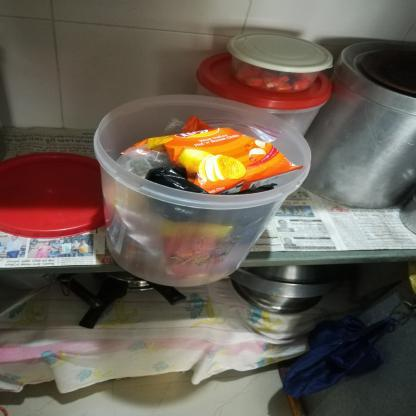hot_and_sweet: (120, 119, 296, 187)
